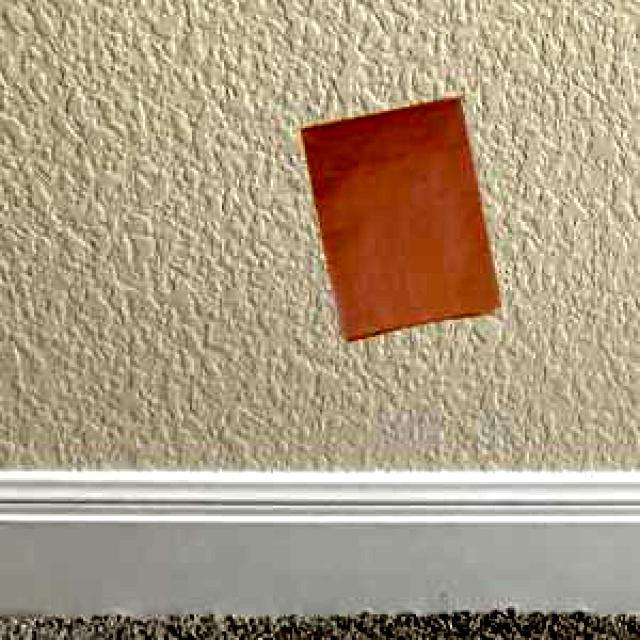Paper_Bag: (298, 95, 498, 338)
